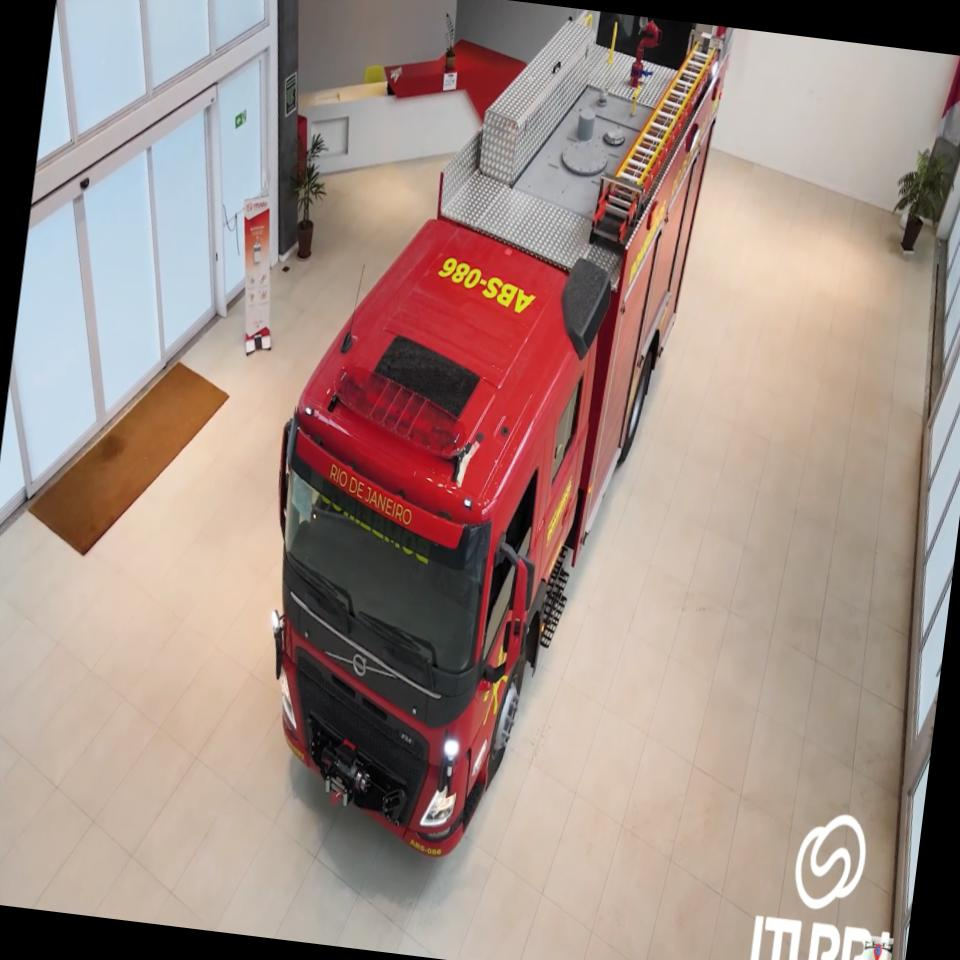viatura: (234, 0, 727, 881)
